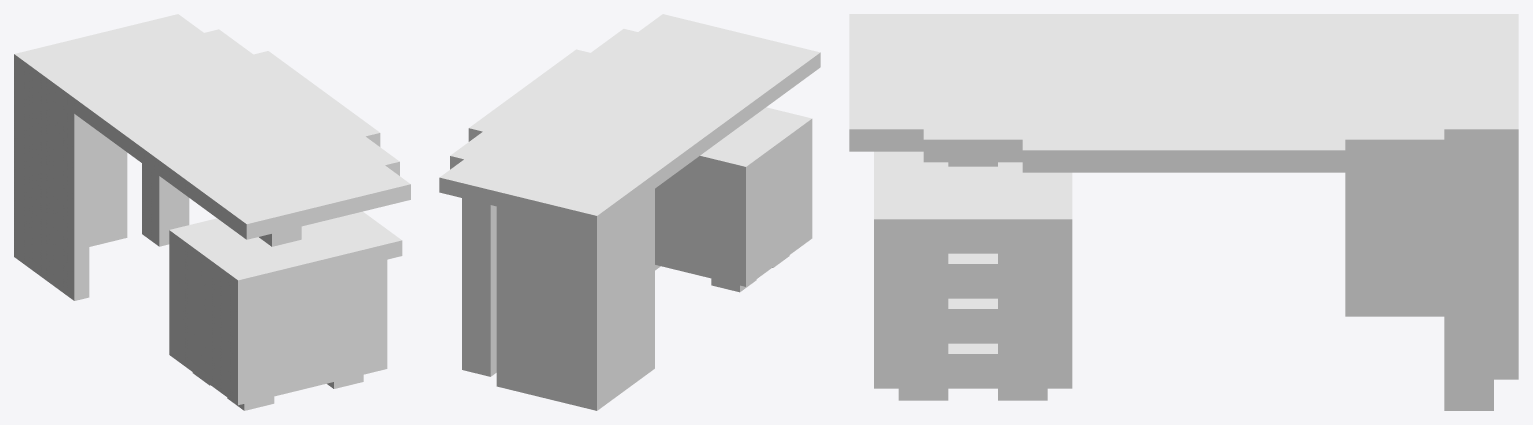
Rendered from Desk.gltf.
3 renders of one model, left to right at view 1: azimuth 30°, elevation 25°; view 2: azimuth 150°, elevation 25°; view 3: azimuth 270°, elevation 25°, orthographic. The views are drawn at different scales.
Size of the model in its own units: 13 by 13 by 27.
1 material, 1 textured.
